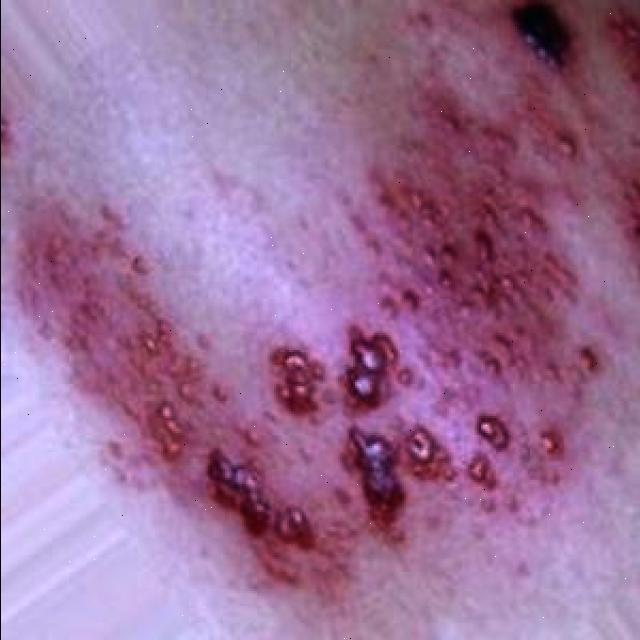Shingles: (7, 8, 640, 565)
